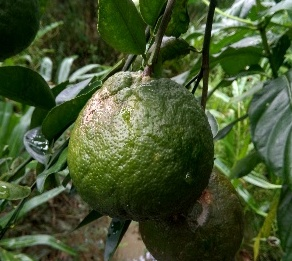Cam: (64, 70, 214, 223)
